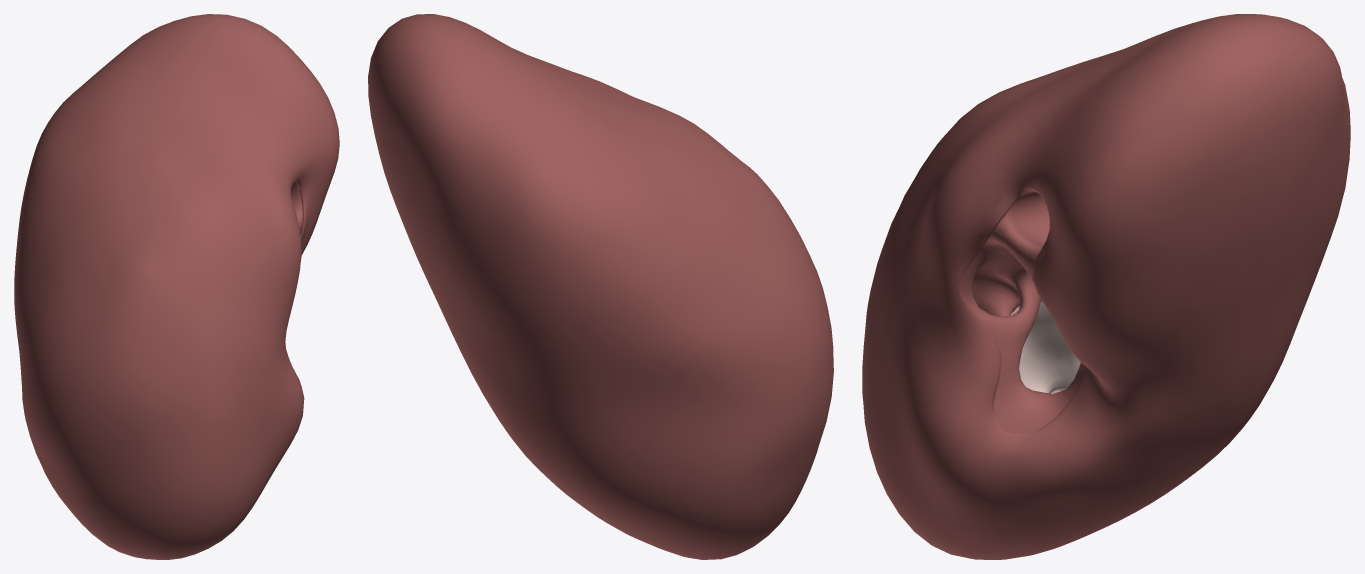
File: right-kidney.glb
The picture shows the model from 3 angles, left to right: view 1: azimuth 30°, elevation 25°; view 2: azimuth 150°, elevation 25°; view 3: azimuth 270°, elevation 25°; orthographic projection. The views are drawn at different scales.
Visible parts, largest first — view 1: VH_F_kidney_capsule_R; view 2: VH_F_kidney_capsule_R; view 3: VH_F_kidney_capsule_R, VH_F_outer_cortex_of_kidney_R.
Part boxes in pixels (x1=…): VH_F_kidney_capsule_R: x1=14, y1=14, x2=339, y2=559; VH_F_kidney_capsule_R: x1=368, y1=14, x2=833, y2=559; VH_F_kidney_capsule_R: x1=862, y1=14, x2=1350, y2=559; VH_F_outer_cortex_of_kidney_R: x1=1010, y1=301, x2=1080, y2=393.
Bounding box in the file's own units: 0.0734 × 0.0979 × 0.0695.
